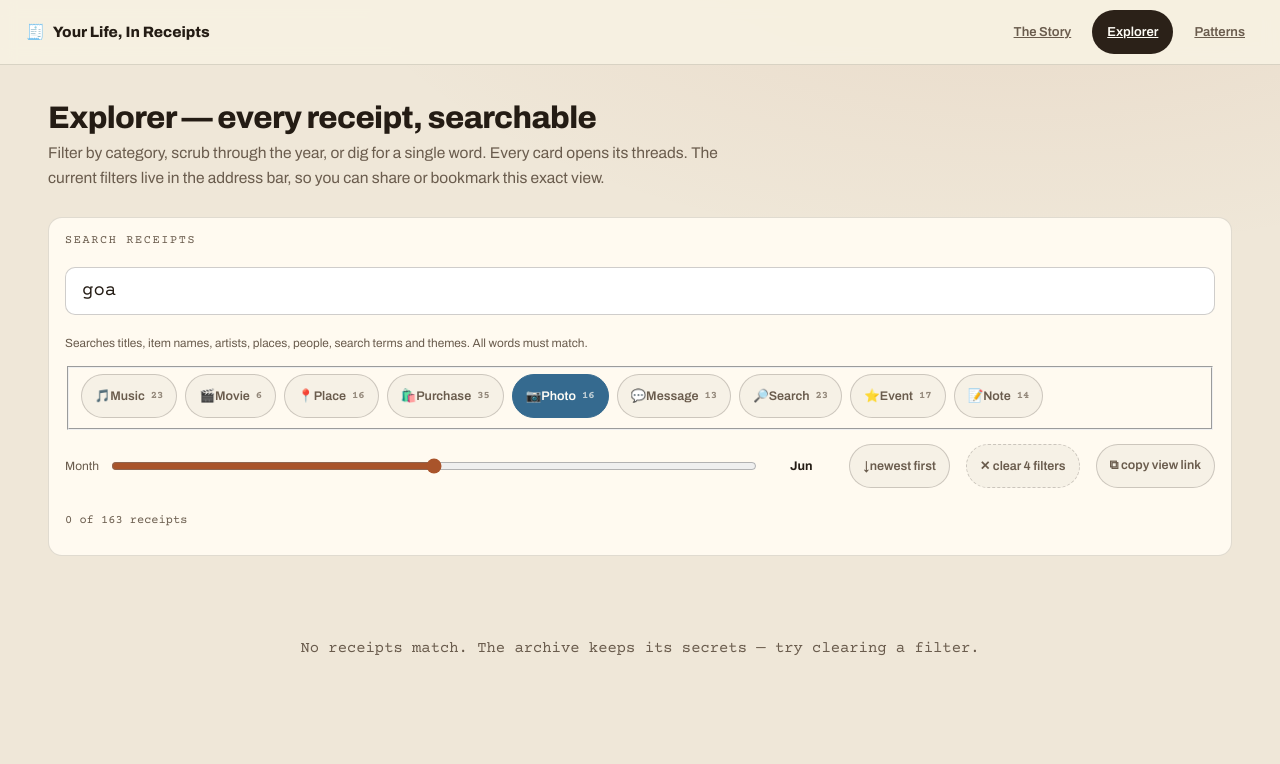
Scenario: application flow › clears every filter with one action
Expected: the text with test id "result-count" does not show "163", [101,514,123,526]
Click the button "✕ clear 4 filters".
click(1023, 466)  # box [966,444,1080,488]
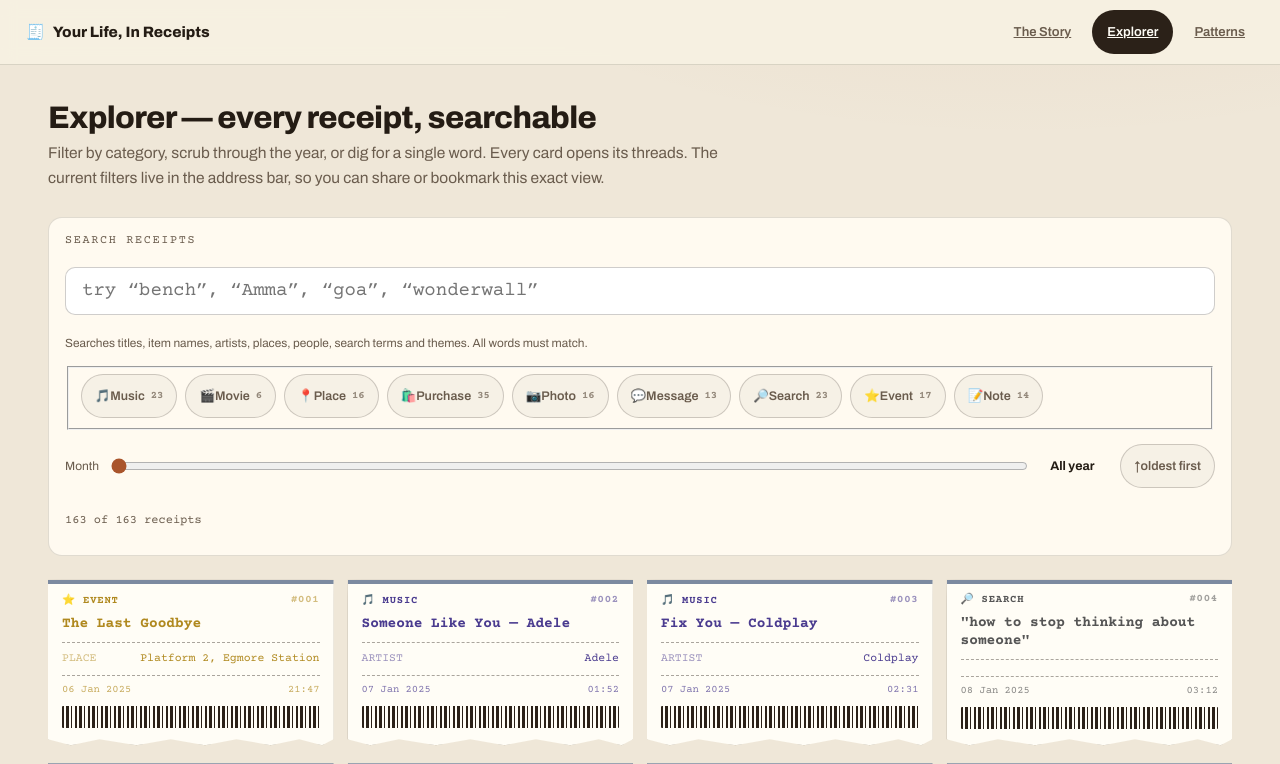
Expected: the search field labelled "Search receipts" is empty, [65,267,1215,315]
Expected: the text with test id "result-count" reads "163 of 163 receipts", [65,514,202,526]
